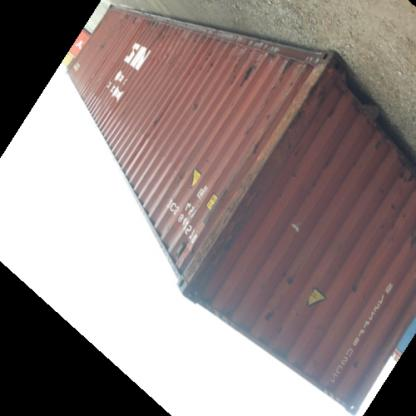Damage: (177, 184, 261, 288), (278, 55, 342, 142), (205, 36, 261, 90), (372, 205, 415, 256), (138, 19, 196, 46), (146, 52, 198, 80), (390, 156, 415, 192), (258, 300, 282, 332), (250, 124, 266, 164), (280, 268, 304, 292), (184, 100, 206, 124), (346, 274, 364, 300), (118, 8, 138, 30), (149, 116, 165, 142), (372, 133, 390, 156), (174, 170, 190, 192), (306, 182, 321, 200), (288, 170, 300, 186), (322, 162, 336, 174), (100, 40, 108, 56), (351, 364, 361, 376)
